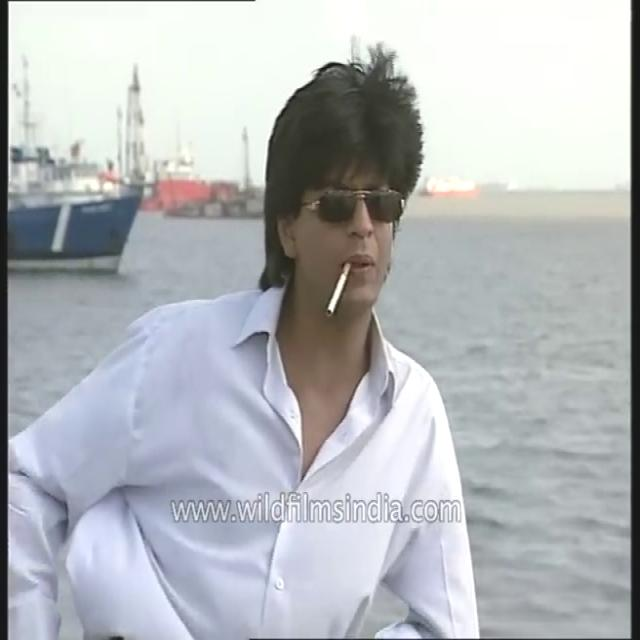Smooking: (319, 260, 362, 322)
